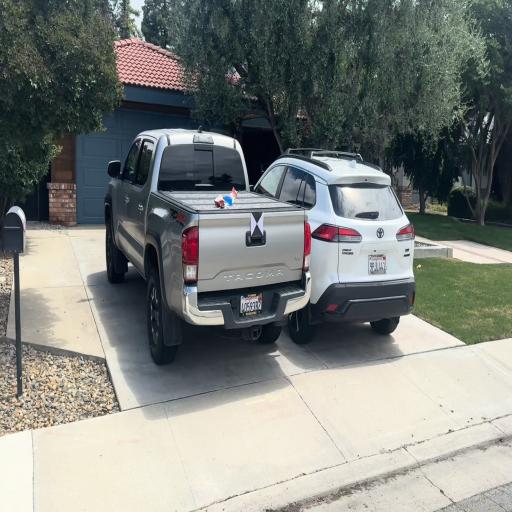target: (252, 213, 264, 237)
